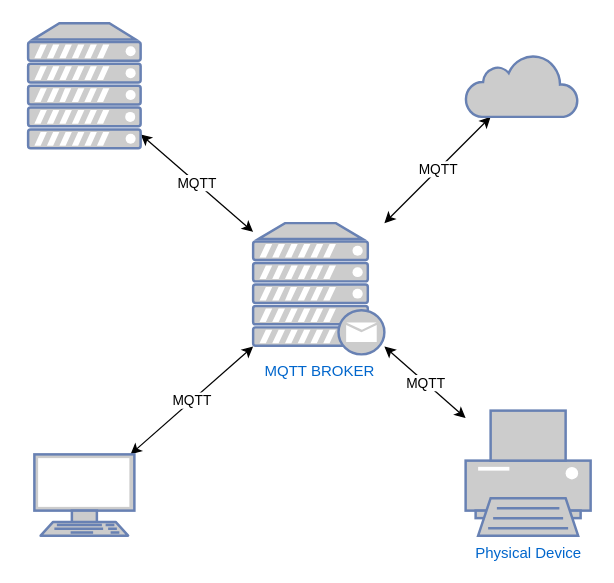
This 614x583 diagram has some shape labels left out. Each missing label, with the box of its shape:
NODEJS SERVER: (26, 21, 141, 149)
PROTO: (32, 452, 135, 536)
